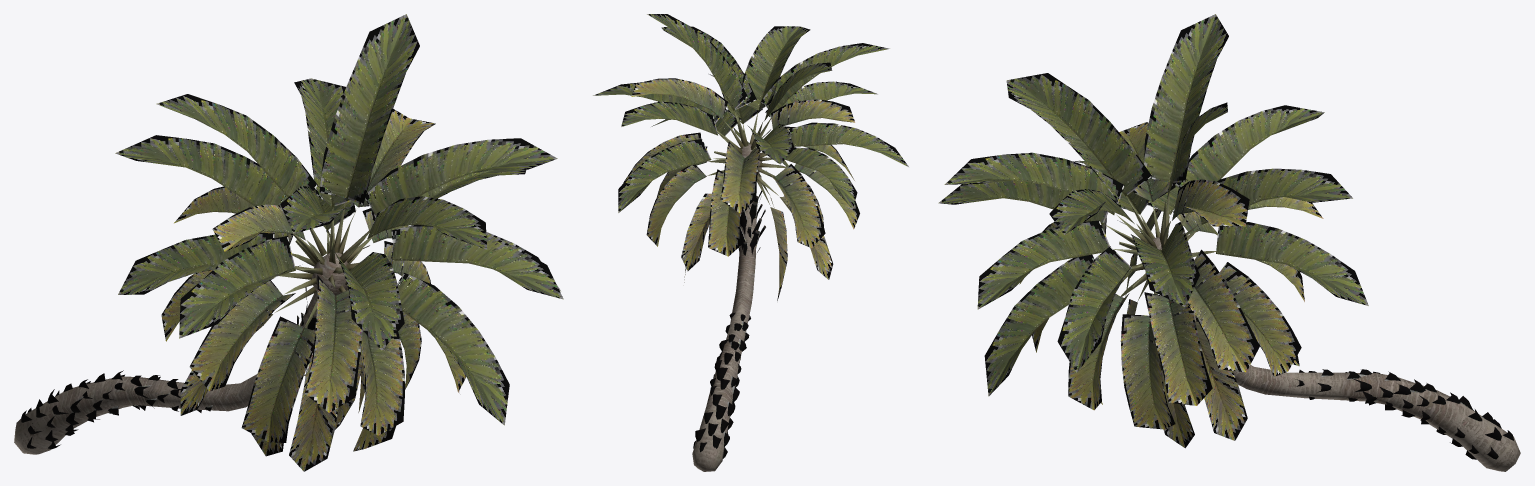
Rendered from tropical-palm-small-a-close.glb.
3 renders of one model, left to right at view 1: azimuth 30°, elevation 25°; view 2: azimuth 150°, elevation 25°; view 3: azimuth 270°, elevation 25°, orthographic. The views are drawn at different scales.
Visible parts, largest first — view 1: palm_tree_small_a_LOD0; view 2: palm_tree_small_a_LOD0; view 3: palm_tree_small_a_LOD0.
Boxes of the visible parts, x1,y1,x2,y2 form: palm_tree_small_a_LOD0: [14, 14, 563, 471]; palm_tree_small_a_LOD0: [593, 14, 908, 471]; palm_tree_small_a_LOD0: [938, 14, 1520, 471].
Size of the model in its own units: 13.39 by 15.67 by 17.77.
Materials: 1 (1 with a texture image).
